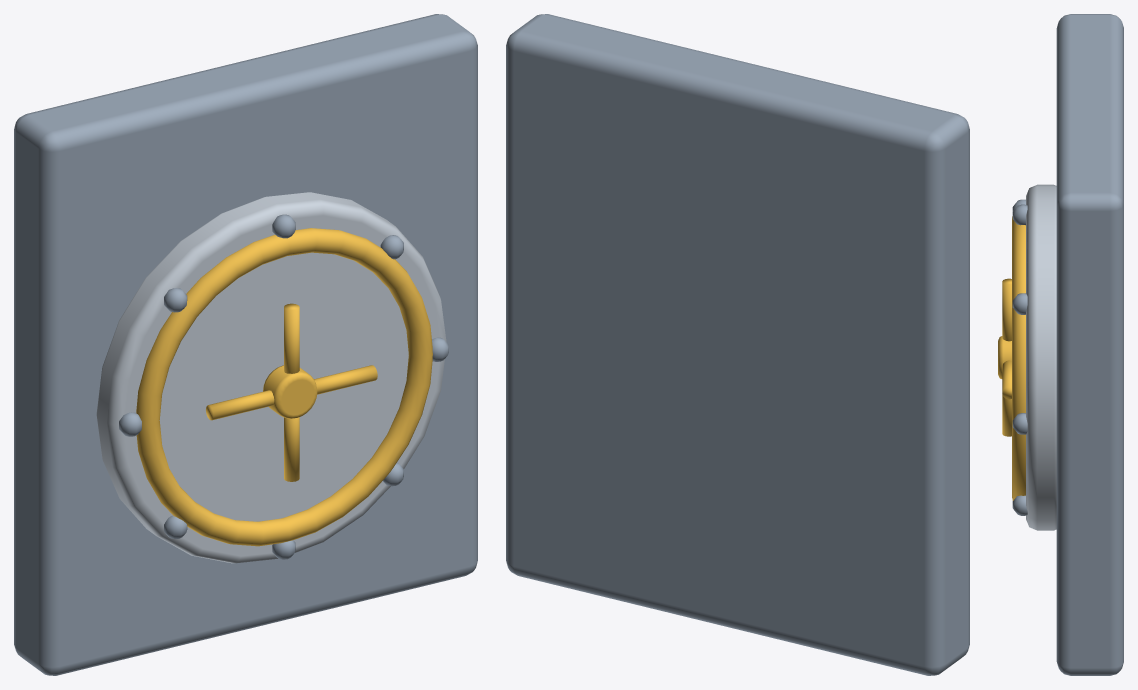
Rendered from vault_door.glb.
3 renders of one model, left to right at view 1: azimuth 30°, elevation 25°; view 2: azimuth 150°, elevation 25°; view 3: azimuth 270°, elevation 25°, orthographic. The views are drawn at different scales.
Visible parts, largest first — view 1: vault_door; view 2: vault_door; view 3: vault_door.
Part boxes in pixels (x1,y1,x2,y2): vault_door: (14, 14, 477, 675); vault_door: (506, 14, 969, 675); vault_door: (998, 14, 1123, 675).
Size of the model in its own units: 1.6 by 1.9 by 0.45.
